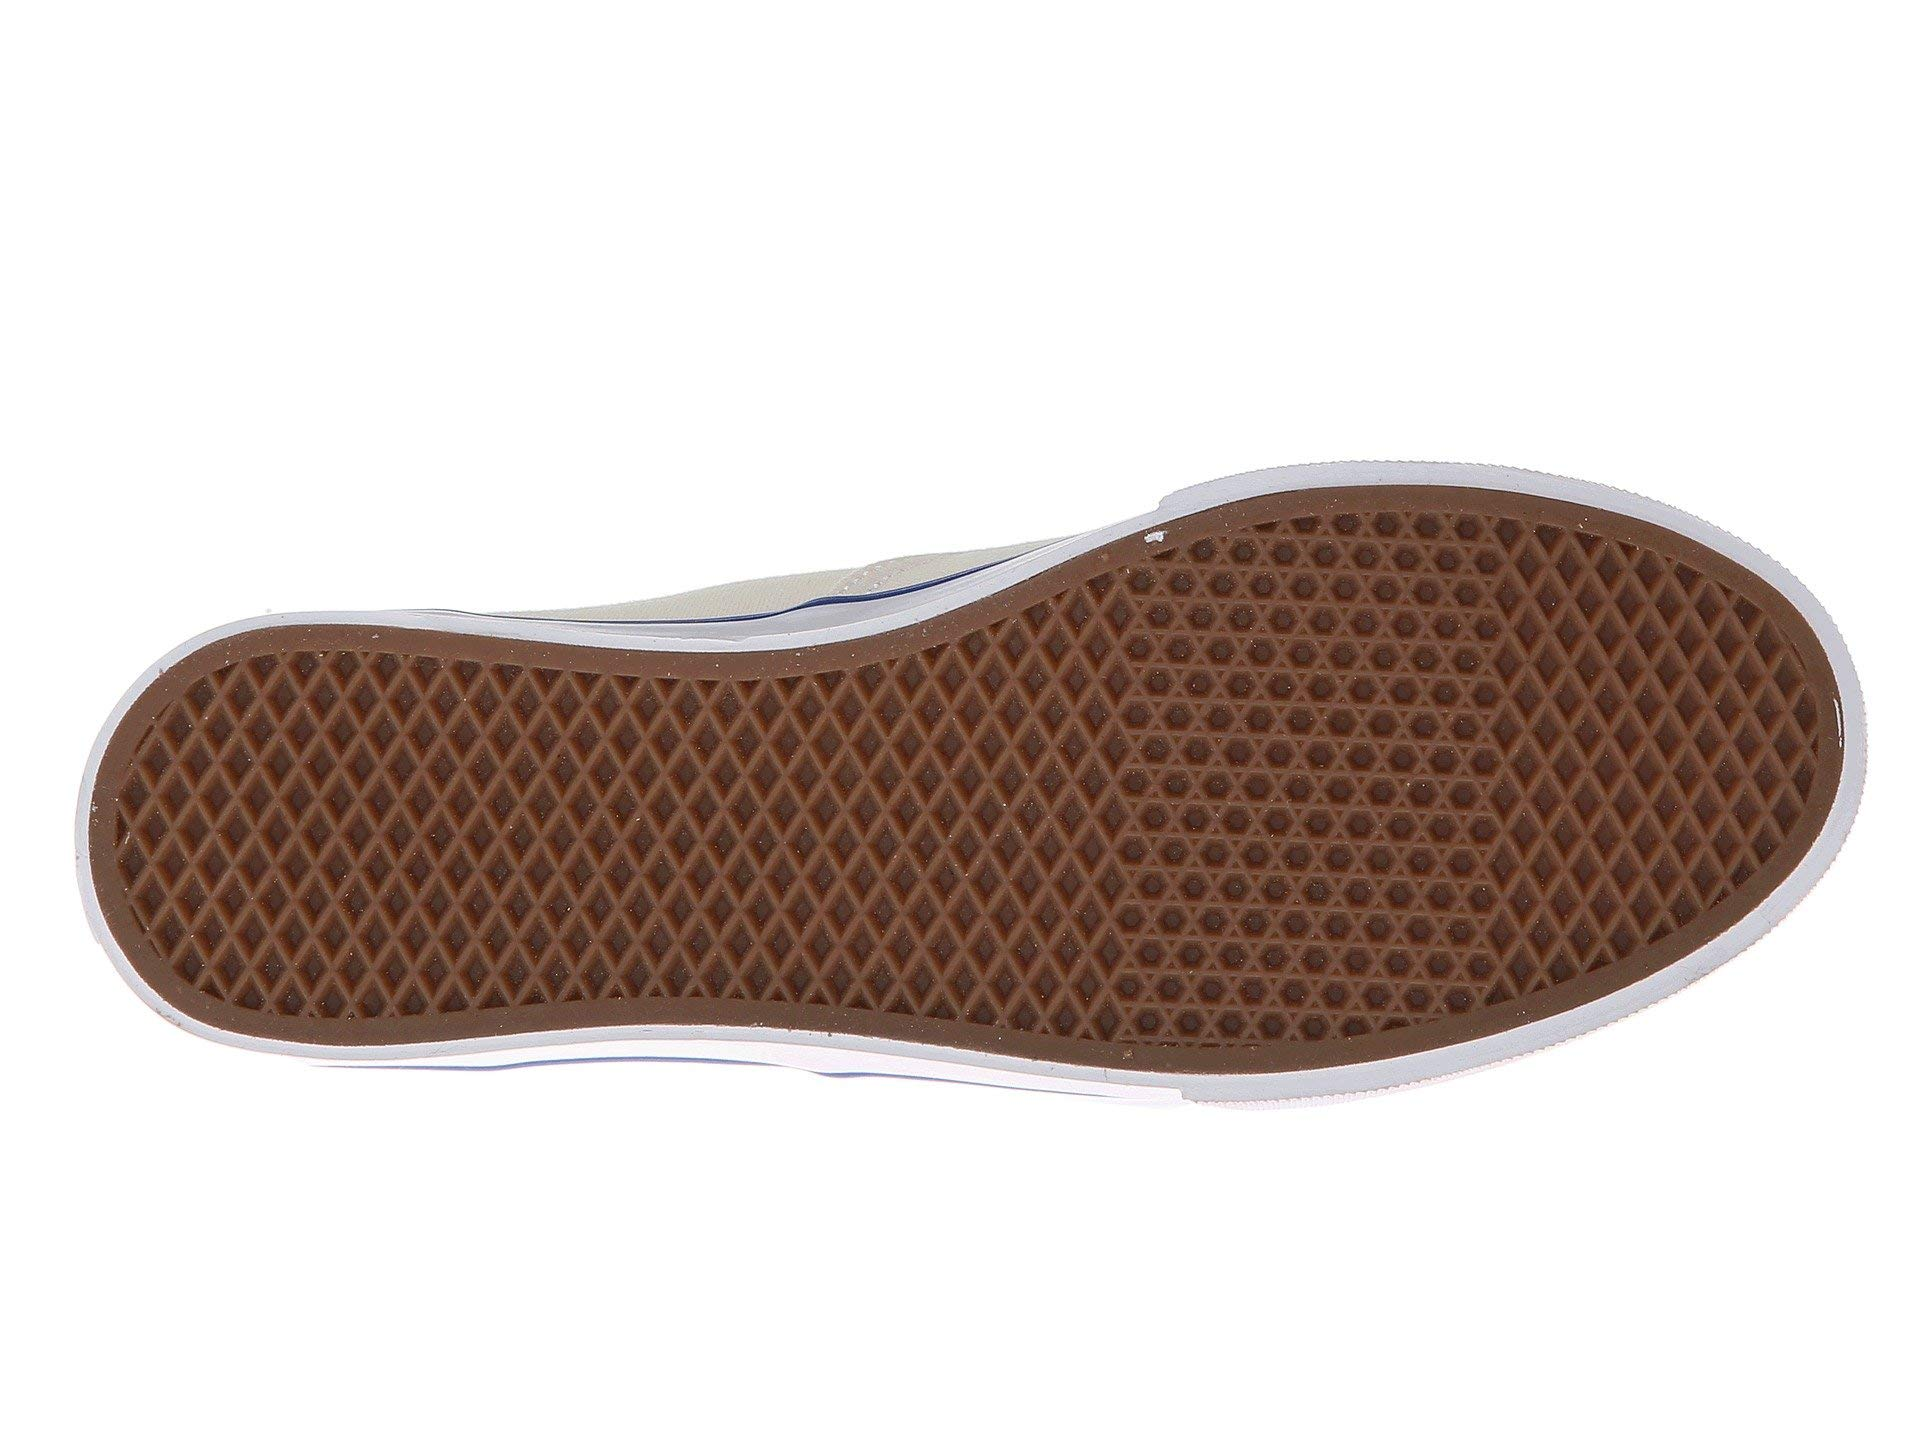polygon: (1191, 578, 1460, 973)
quad: (219, 725, 1045, 954), (1518, 563, 1737, 886)
triangle: (1191, 578, 1460, 973)
